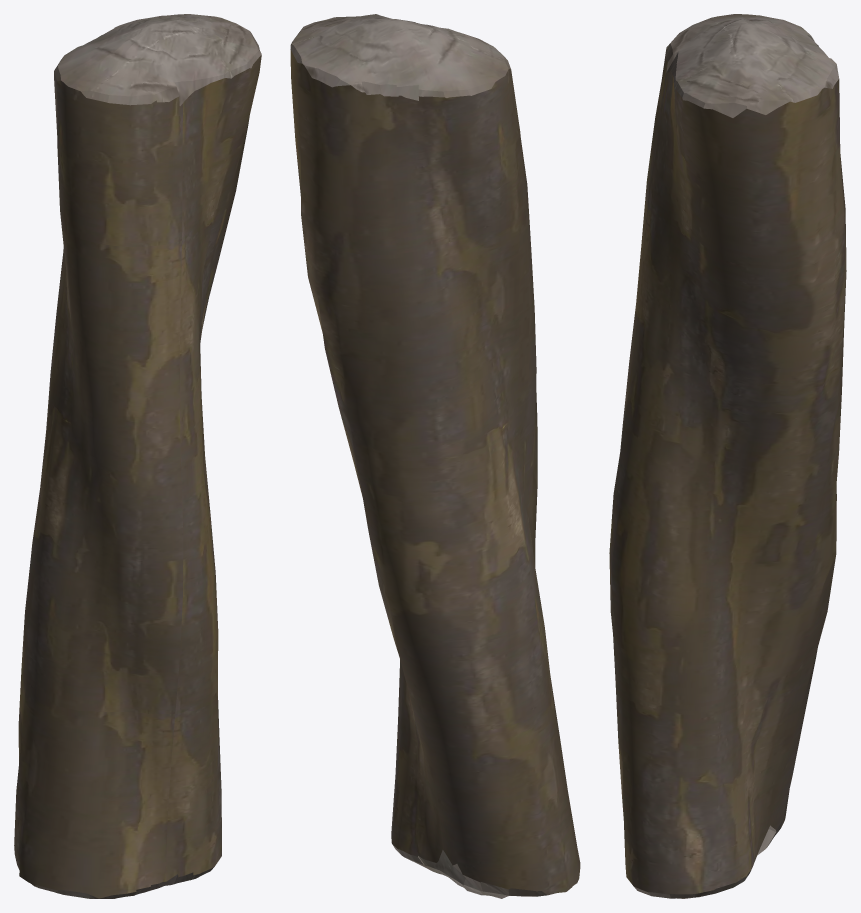
3 renders of one model, left to right at view 1: azimuth 30°, elevation 25°; view 2: azimuth 150°, elevation 25°; view 3: azimuth 270°, elevation 25°, orthographic. The views are drawn at different scales.
Visible parts, largest first — view 1: SM_Yew_01_half_mid_LOD0; view 2: SM_Yew_01_half_mid_LOD0; view 3: SM_Yew_01_half_mid_LOD0.
Part boxes in pixels (x1=…): SM_Yew_01_half_mid_LOD0: x1=14, y1=14, x2=261, y2=898; SM_Yew_01_half_mid_LOD0: x1=290, y1=14, x2=580, y2=898; SM_Yew_01_half_mid_LOD0: x1=609, y1=14, x2=846, y2=898.
Size of the model in its own units: 1.27 by 4.19 by 1.01.
1 material, 1 textured.
